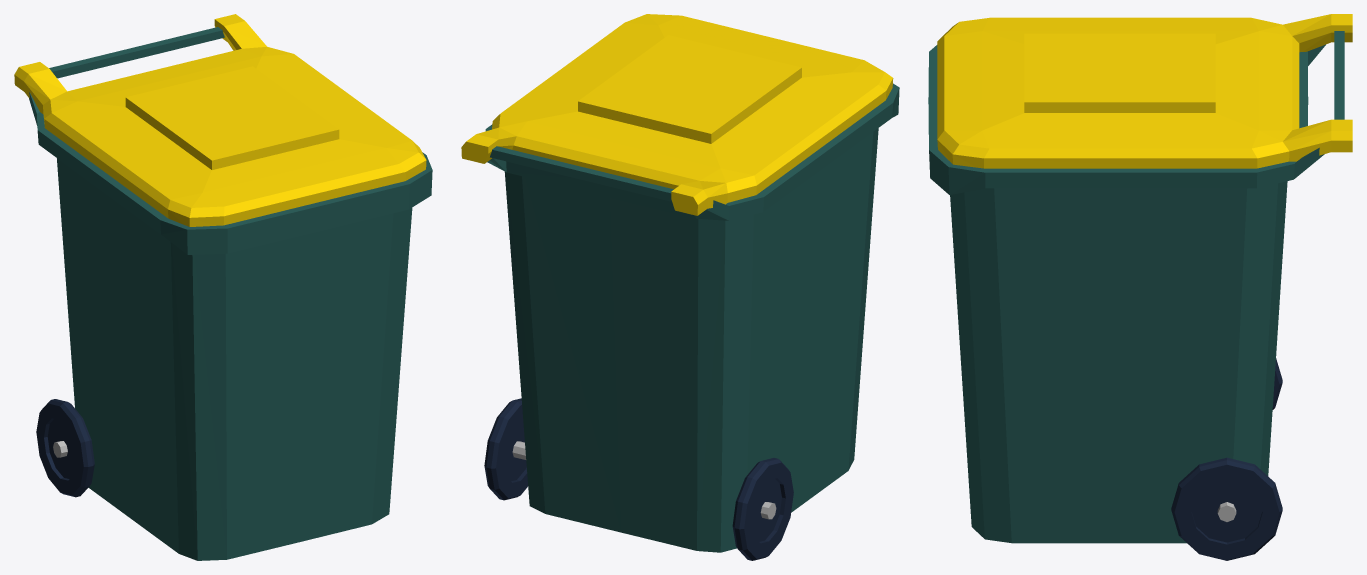
Rendered from garbage.gltf.
The picture shows the model from 3 angles, left to right: view 1: azimuth 30°, elevation 25°; view 2: azimuth 150°, elevation 25°; view 3: azimuth 270°, elevation 25°; orthographic projection. The views are drawn at different scales.
Visible parts, largest first — view 1: node-0; view 2: node-0; view 3: node-0.
Boxes of the visible parts, <box> form: node-0: <box>14,14,432,560</box>; node-0: <box>461,14,899,560</box>; node-0: <box>928,14,1352,560</box>.
Bounding box in the file's own units: 2.23 × 3.09 × 2.78.
